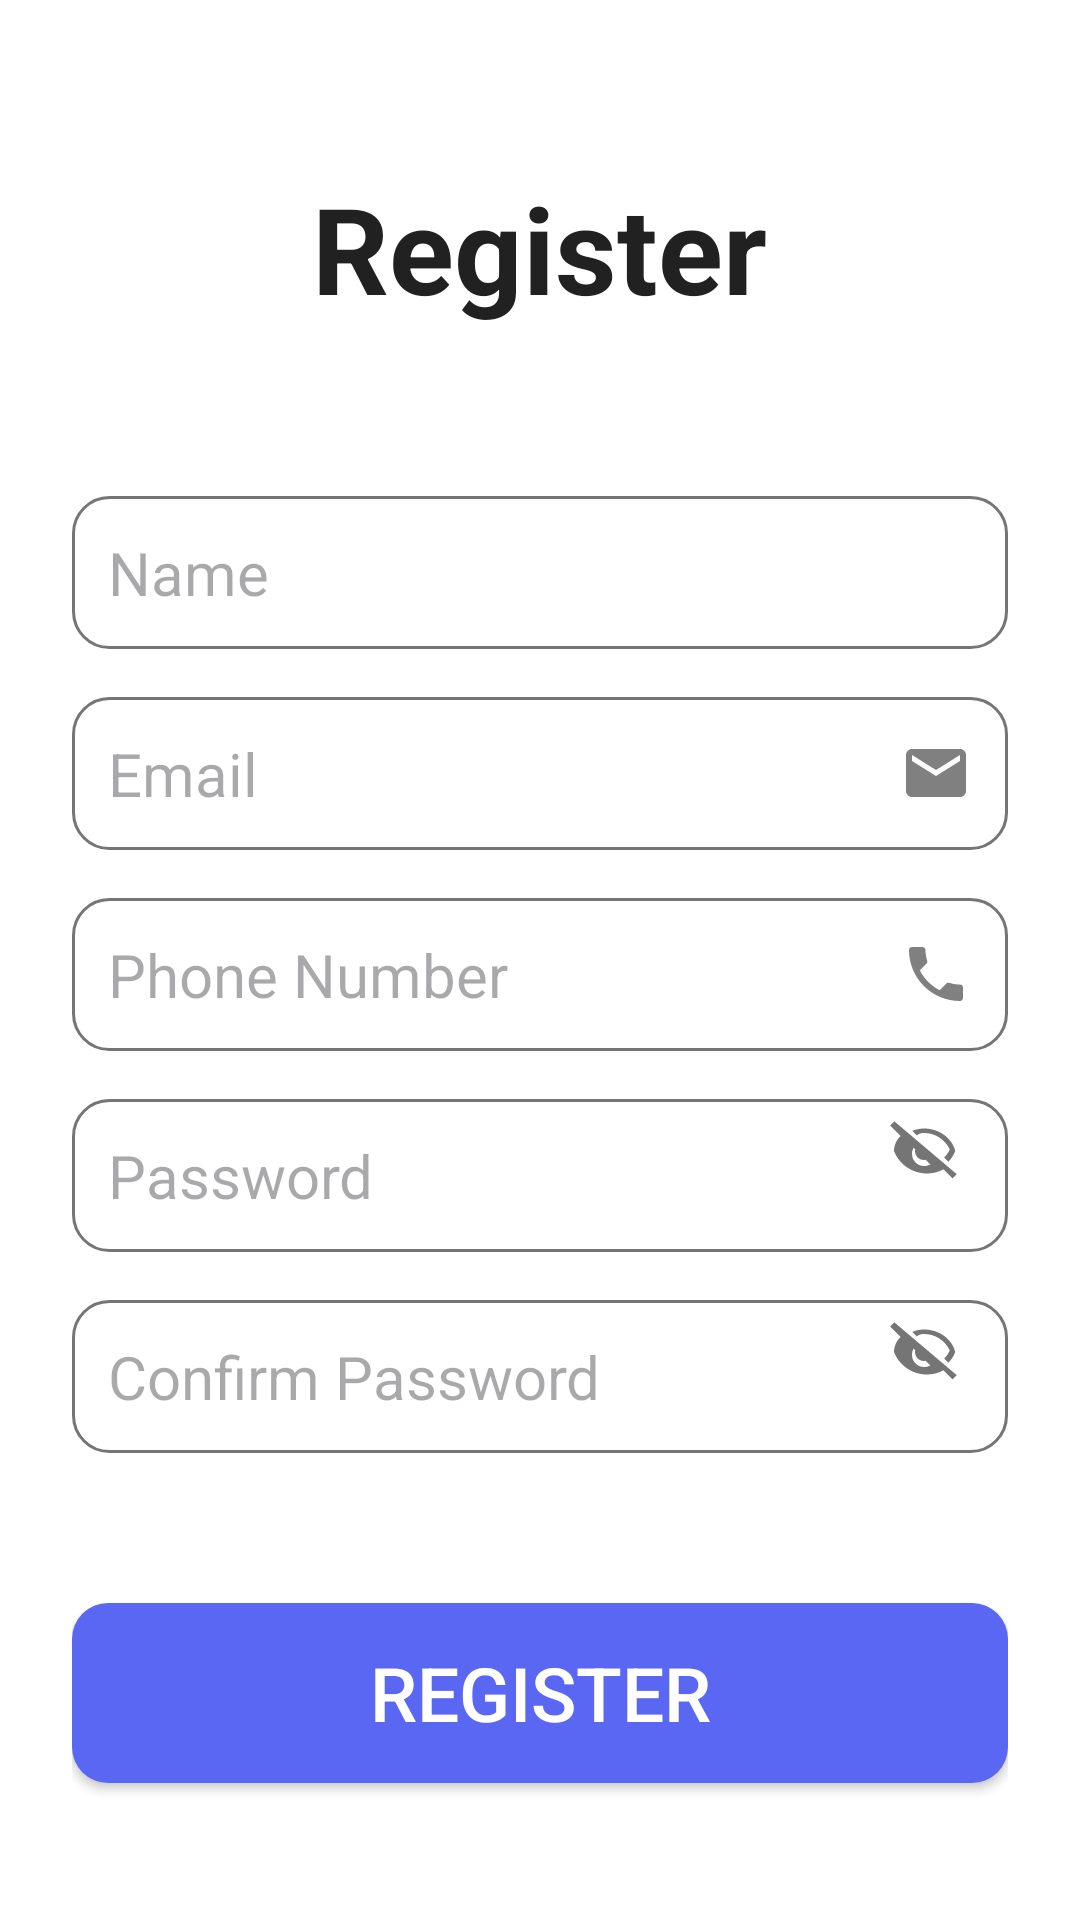

Where icons sit on this 1080px×1920px app screen, as region(x1, y1, x2, y2):
eye closed: region(890, 1121, 957, 1178), region(890, 1322, 957, 1379)
